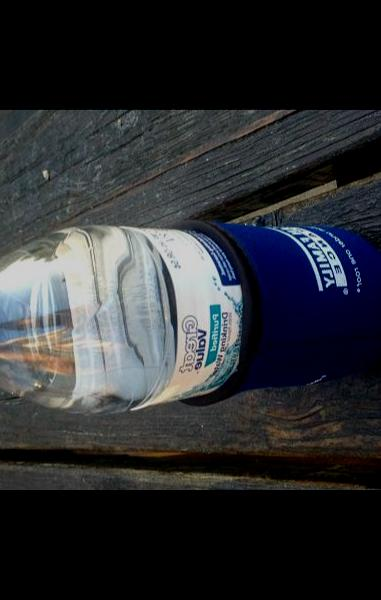bottle: (0, 216, 381, 422)
